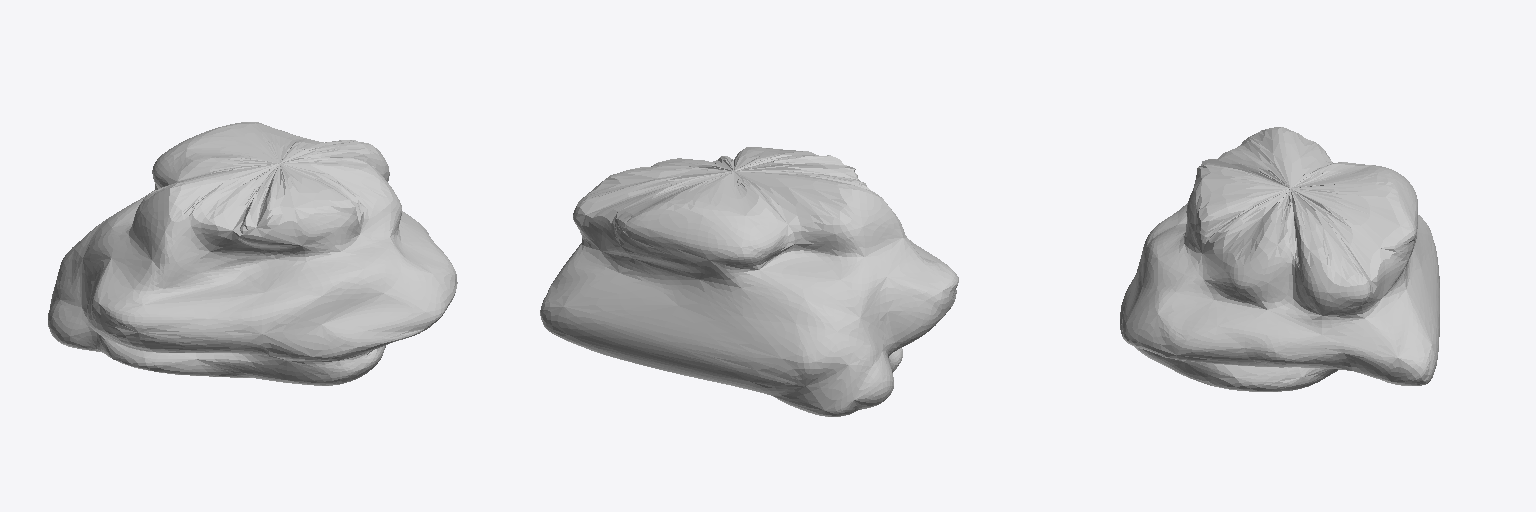
Rendered from clouds03.obj.
The picture shows the model from 3 angles: view 1: azimuth 30°, elevation 25°; view 2: azimuth 150°, elevation 25°; view 3: azimuth 270°, elevation 25°; orthographic projection.
Bounding box in the file's own units: 19.6 × 9.92 × 16.11.